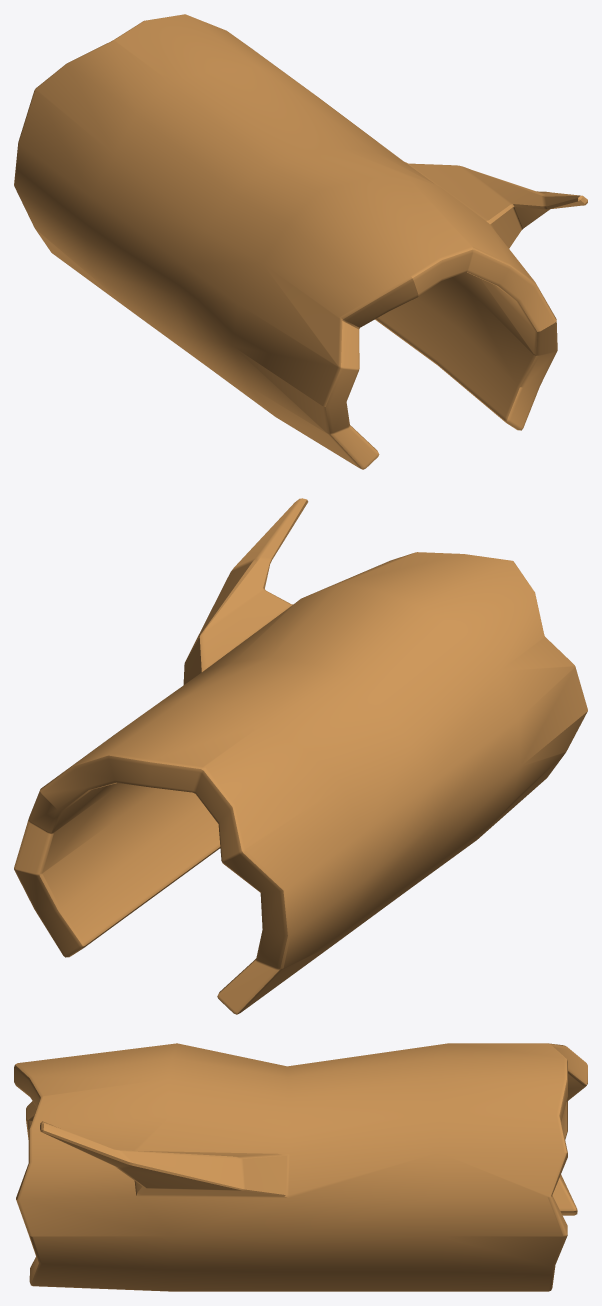
Rendered from Tronco_1.fbx.
The picture shows the model from 3 angles, top to bottom: view 1: azimuth 30°, elevation 25°; view 2: azimuth 150°, elevation 25°; view 3: azimuth 270°, elevation 25°; orthographic projection. The views are drawn at different scales.
Visible parts, largest first — view 1: three_slots; view 2: three_slots; view 3: three_slots.
Part boxes in pixels (x1,y1,x2,y2): three_slots: (14, 14, 587, 469); three_slots: (14, 498, 587, 1014); three_slots: (14, 1043, 587, 1291).
Size of the model in its own units: 0.807 by 0.5638 by 1.5.
